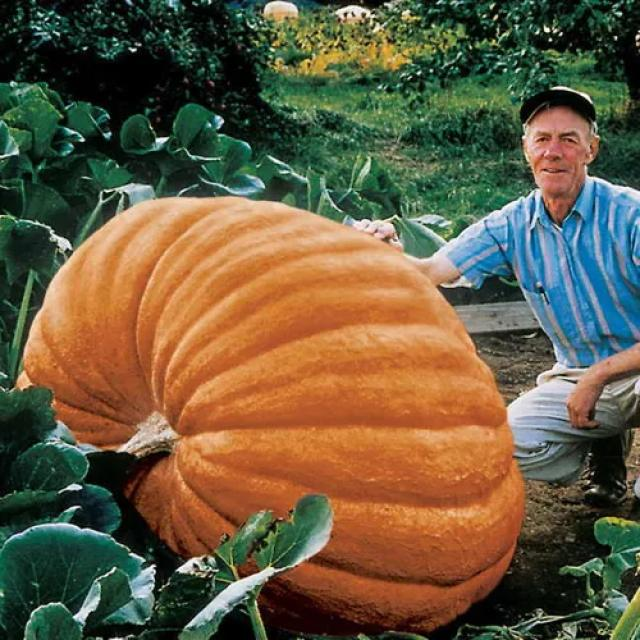pumpkin: (20, 198, 524, 633)
